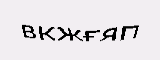В: (20, 23, 36, 40)
Ж: (56, 27, 84, 42)
К: (39, 25, 56, 42)
П: (120, 25, 141, 41)
Я: (99, 26, 119, 43)
Ғ: (82, 29, 101, 43)
